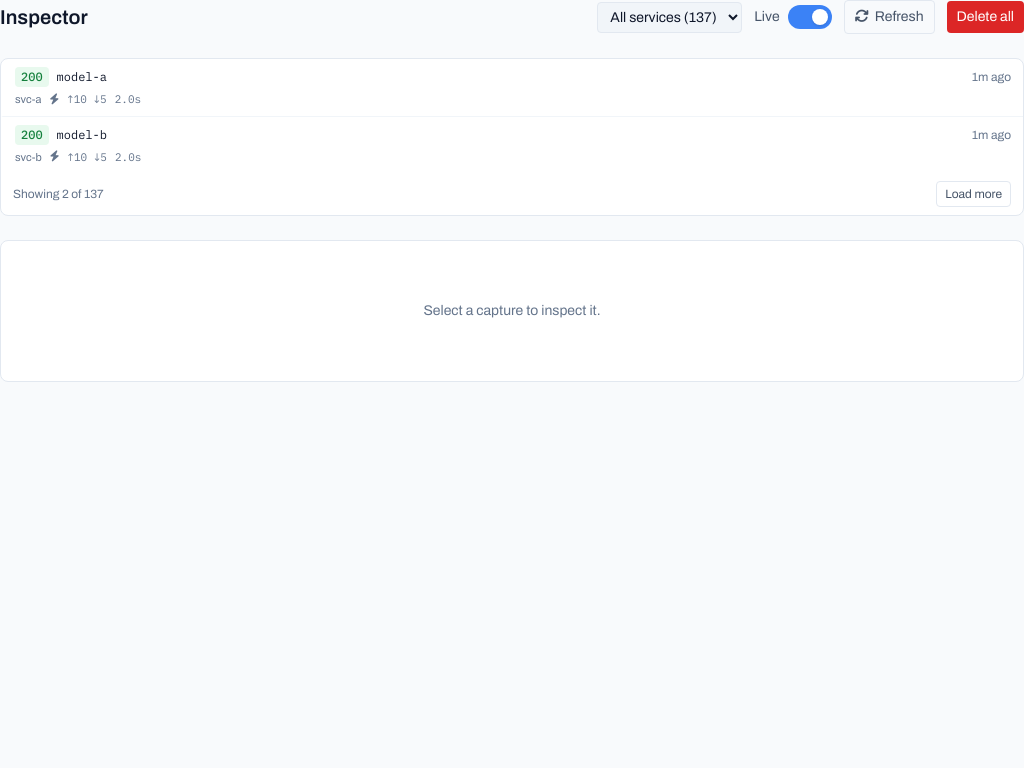
Scenario: InspectorPage deletion › Delete all asks with the count, and the confirm empties the list
The image size is (1024, 768).
expect the text "model-a" is shown: met, box [57,69,107,85]
Click the button "Delete all". click: (985,17)
box: [946,1,1023,33]
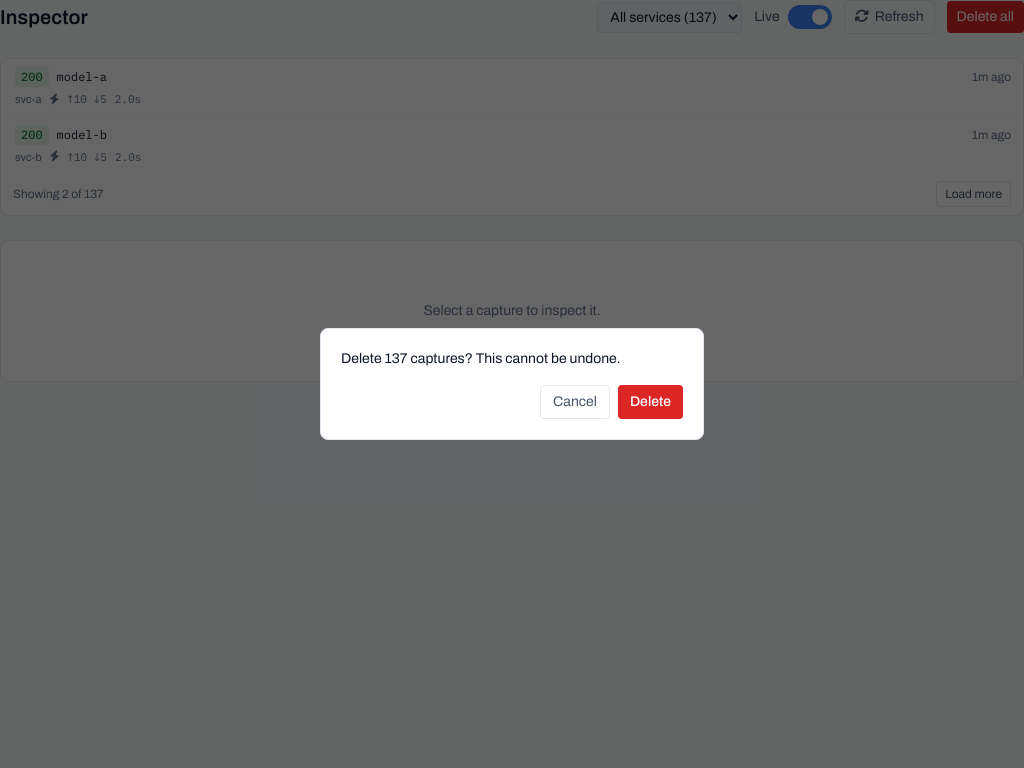
expect the text "Delete 137 captures? This cannot be undone." is shown: met, box [341,351,621,366]
Click the button "Cancel". click: (575,402)
box: [540,385,610,419]
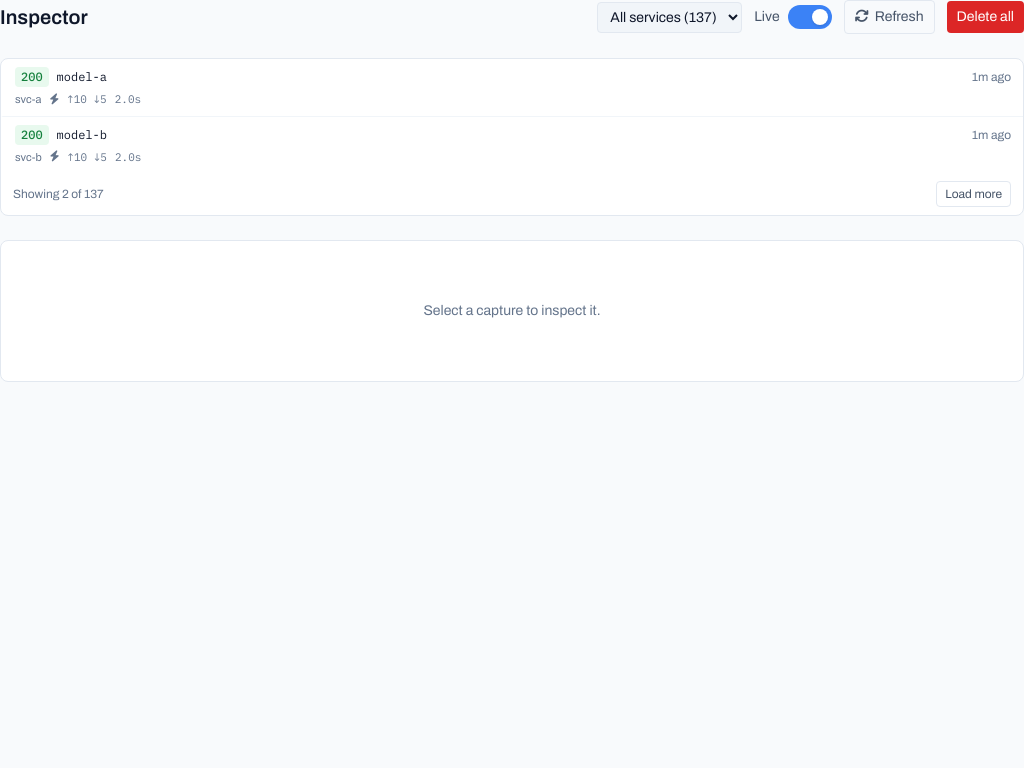
expect the text "model-a" is shown: met, box [57,69,107,85]
Click the button "Delete all". click: (985,17)
box: [946,1,1023,33]
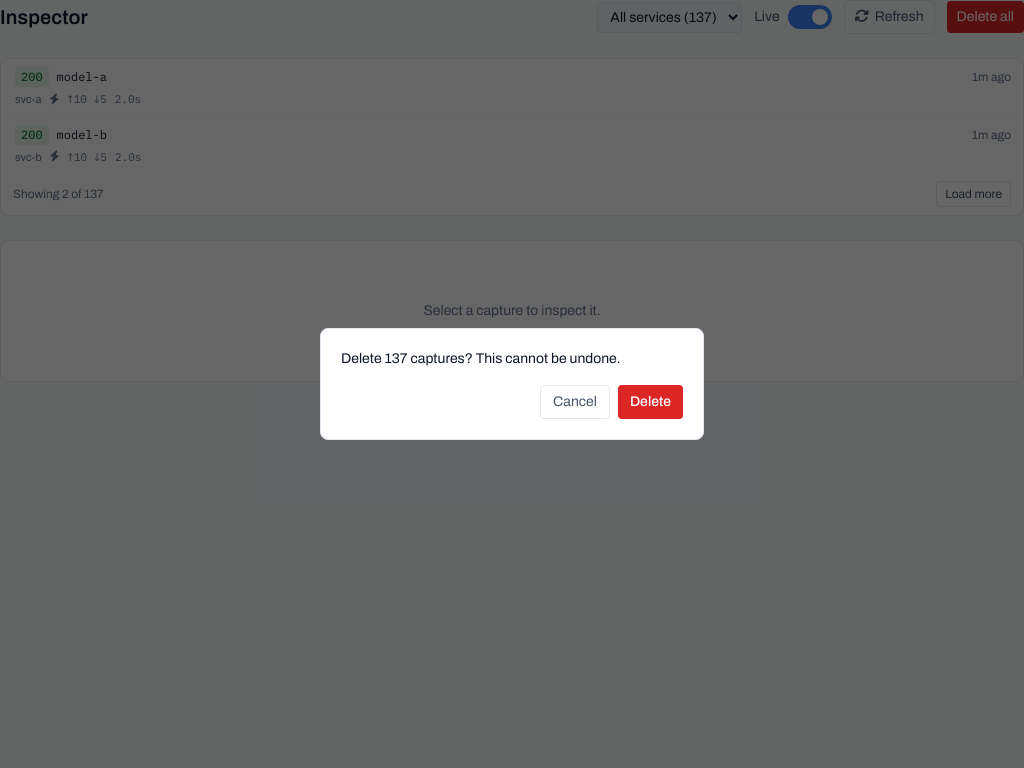
Click the button "Delete". click: (650,402)
box: [618,385,683,419]
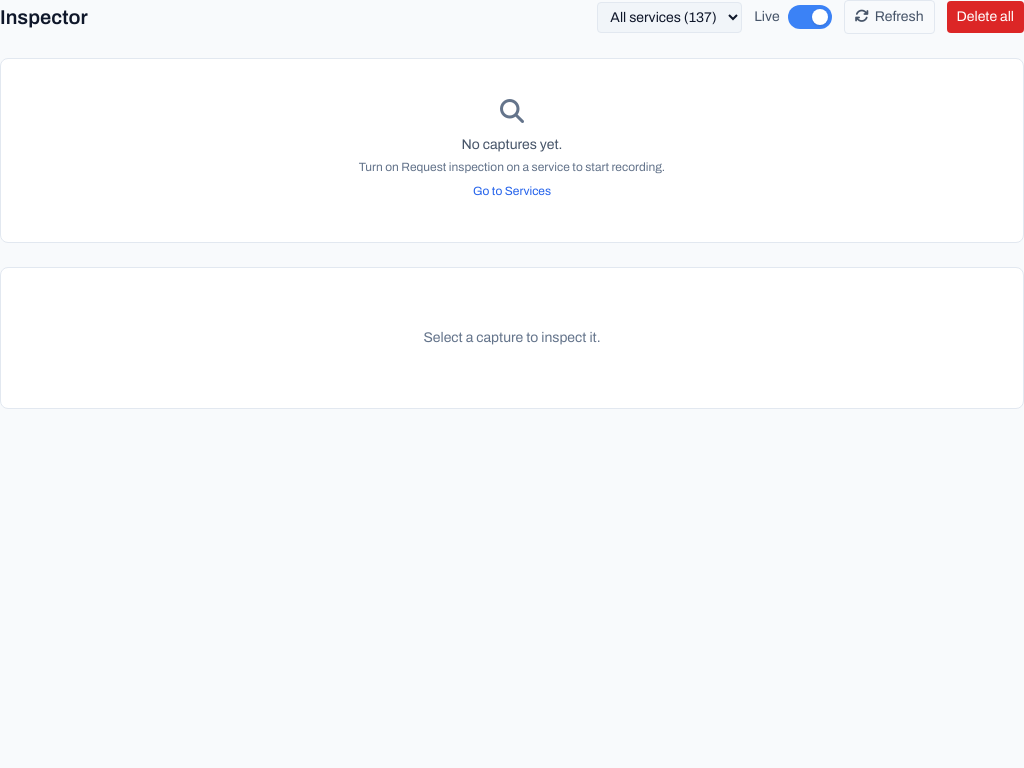
expect the text "No captures yet." is shown: met, box [462,137,562,152]
